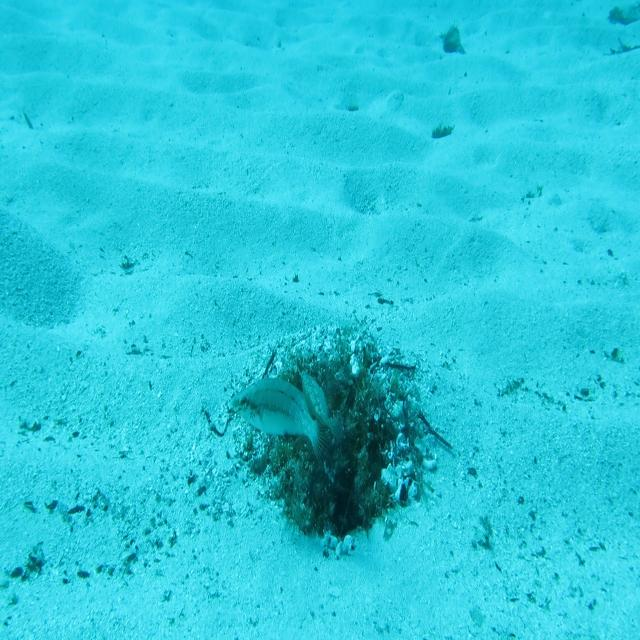NIP_IN: (296, 365, 344, 445)
female: (228, 373, 334, 473)
nest: (220, 308, 439, 563)
vegetation: (602, 0, 640, 61), (439, 22, 468, 58), (431, 122, 456, 142)
